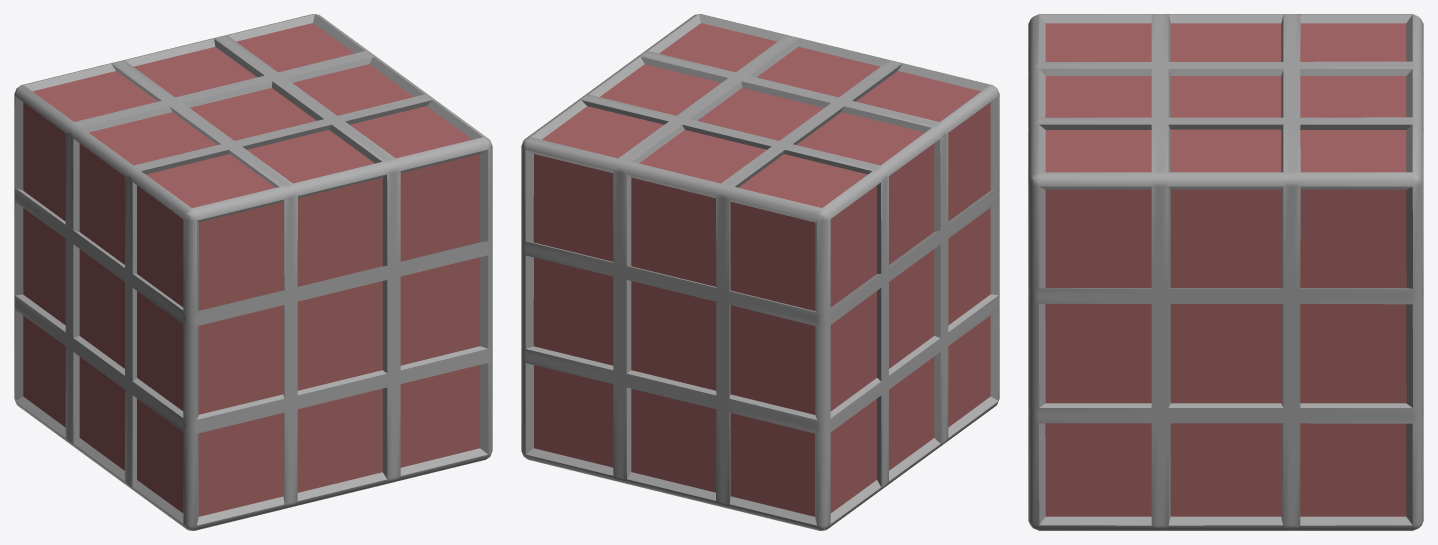
The model's file is Rubic.fbx.
3 views of the same model, side by side, from view 1: azimuth 30°, elevation 25°; view 2: azimuth 150°, elevation 25°; view 3: azimuth 270°, elevation 25° (orthographic). The views are drawn at different scales.
Parts seen in each view (by area): view 1: pCube1; view 2: pCube1; view 3: pCube1.
Part boxes in pixels (x1=…): pCube1: x1=14, y1=14, x2=492, y2=530; pCube1: x1=521, y1=14, x2=999, y2=530; pCube1: x1=1028, y1=14, x2=1423, y2=530.
Size of the model in its own units: 1951 by 1951 by 1951.
